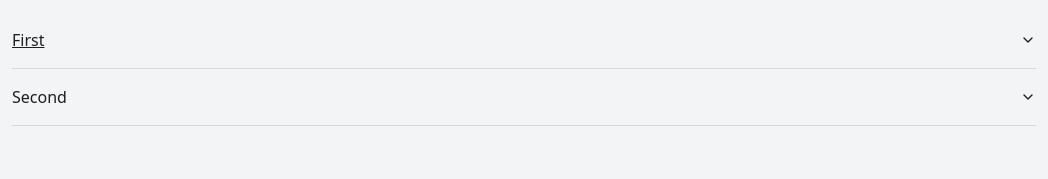
Test: Accordion › Interactions › closes other items with type="single"
The image size is (1048, 179).
Click the button "First".
click(28, 40)  # box [12, 12, 1036, 68]
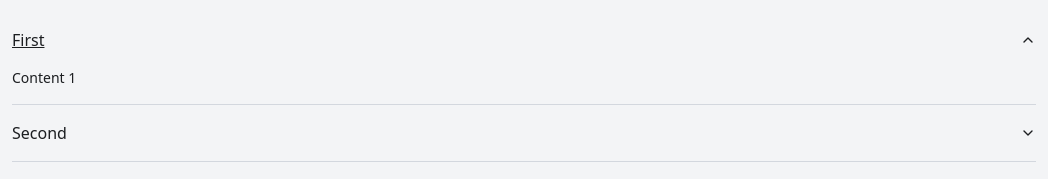
Expected: the button "First" has attribute data-state="open", [12, 12, 1036, 68]
Click the button "Second".
click(39, 133)  # box [12, 105, 1036, 161]
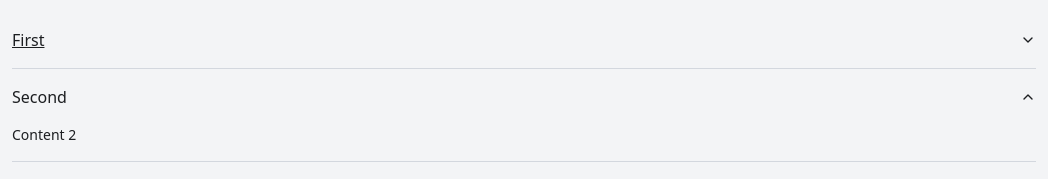
Expected: the button "First" has attribute data-state="closed", [12, 12, 1036, 68]
Expected: the button "Second" has attribute data-state="open", [12, 69, 1036, 125]
